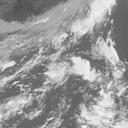cyclone: (30, 33, 94, 93)
